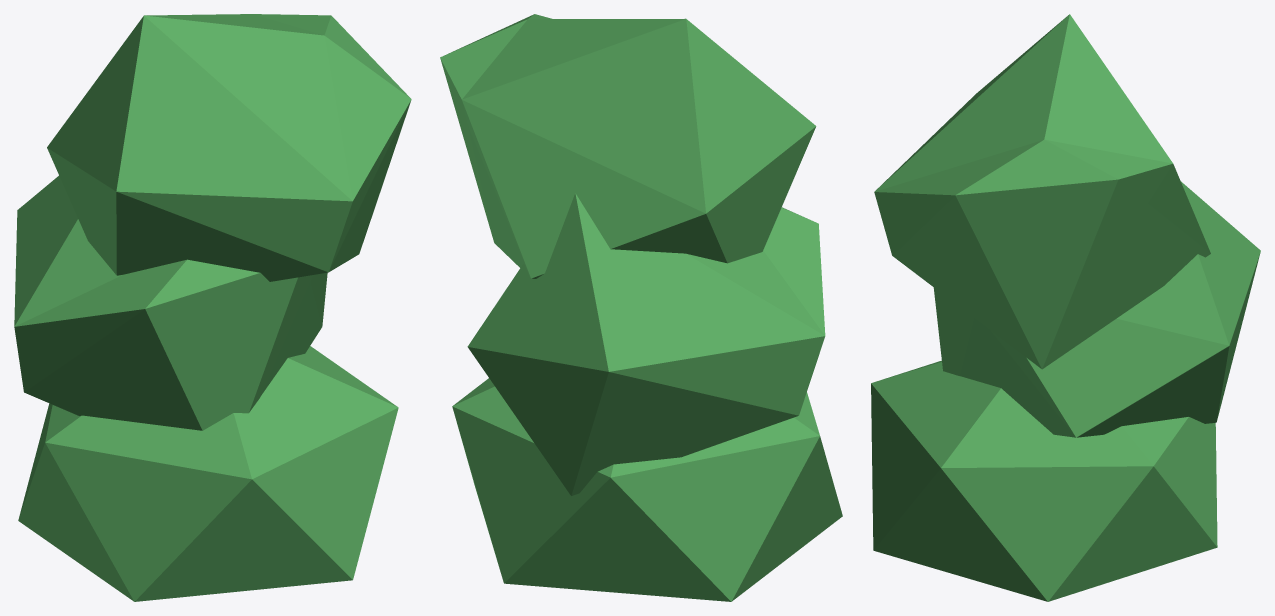
The model's file is STA_Project_Vegetations_Bush_V2.fbx.
3 views of the same model, side by side, from view 1: azimuth 30°, elevation 25°; view 2: azimuth 150°, elevation 25°; view 3: azimuth 270°, elevation 25° (orthographic). The views are drawn at different scales.
Visible parts, largest first — view 1: Bush_V2; view 2: Bush_V2; view 3: Bush_V2.
Boxes of the visible parts, x1,y1,x2,y2 form: Bush_V2: (14, 14, 411, 601); Bush_V2: (440, 14, 842, 601); Bush_V2: (871, 14, 1260, 601).
Bounding box in the file's own units: 329 × 486 × 336.
1 material, 1 textured.
